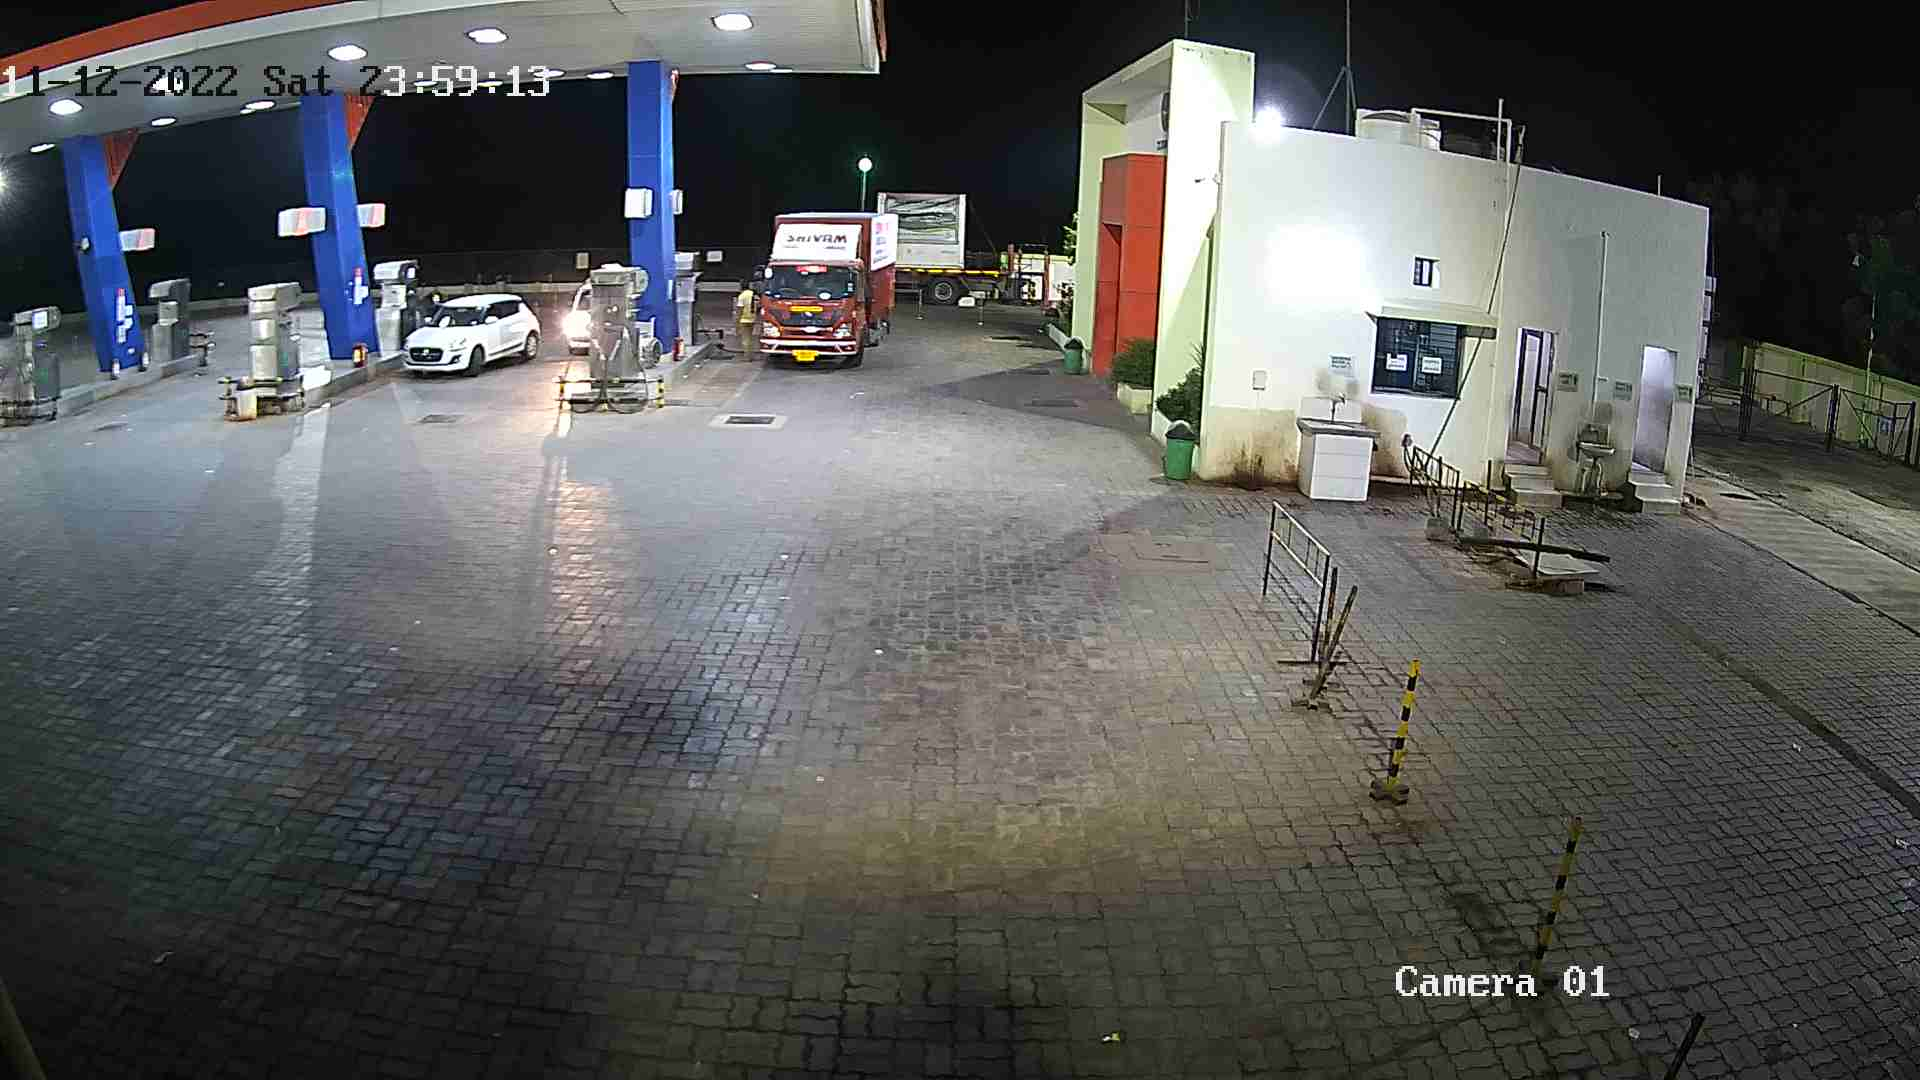Car: (396, 290, 543, 384), (554, 272, 608, 361)
HMV: (738, 203, 909, 375), (865, 186, 1047, 307)
